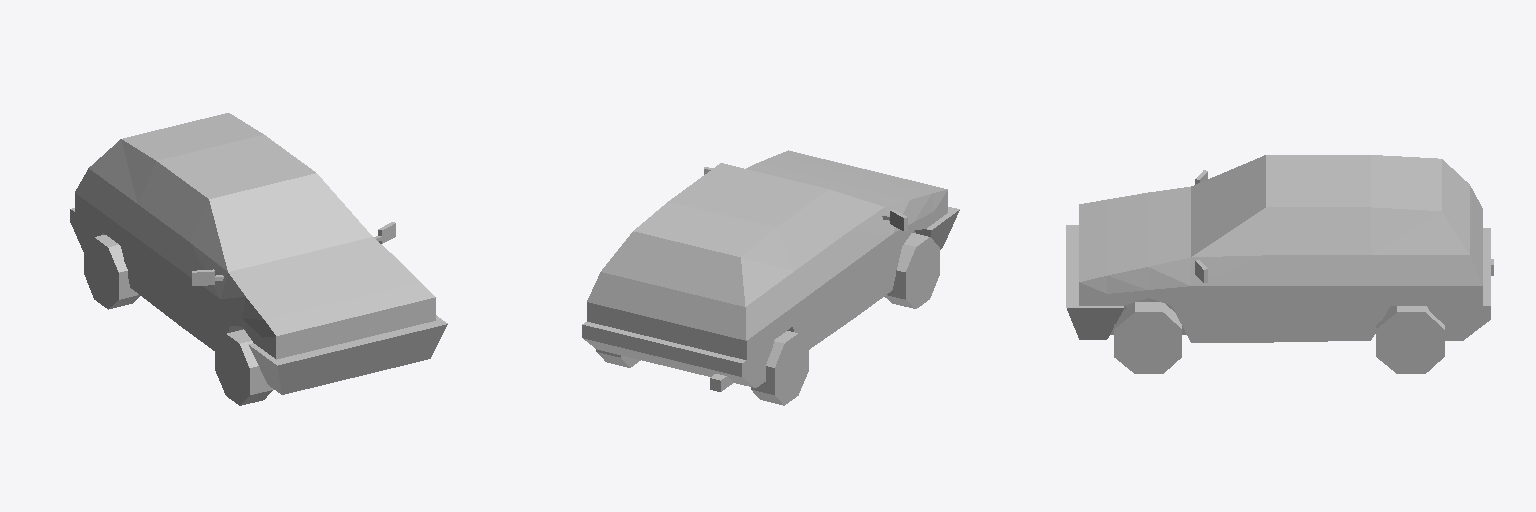
File: Car13.obj
3 renders of one model, left to right at view 1: azimuth 30°, elevation 25°; view 2: azimuth 150°, elevation 25°; view 3: azimuth 270°, elevation 25°, orthographic.
Visible parts, largest first — view 1: Default; view 2: Default; view 3: Default.
Boxes of the visible parts, x1,y1,x2,y2 form: Default: [70, 113, 447, 405]; Default: [582, 150, 959, 405]; Default: [1066, 155, 1493, 373].
Size of the model in its own units: 1.38 by 0.9625 by 2.49.